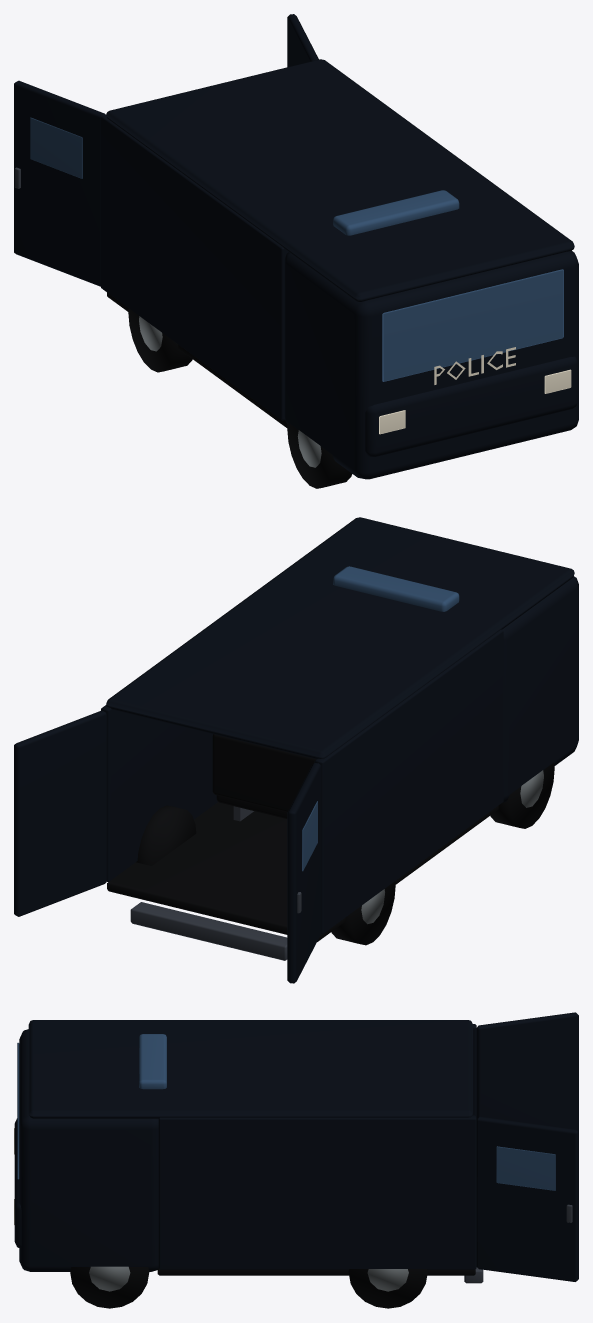
File: police-van-open-interior.glb
The picture shows the model from 3 angles, top to bottom: view 1: azimuth 30°, elevation 25°; view 2: azimuth 150°, elevation 25°; view 3: azimuth 270°, elevation 25°; orthographic projection. The views are drawn at different scales.
Parts seen in each view (by area): view 1: van-shell-and-interior, door-left, door-right; view 2: van-shell-and-interior, door-right, door-left; view 3: van-shell-and-interior, door-right, door-left.
Boxes of the visible parts, x1=… form: van-shell-and-interior: x1=101, y1=59, x2=578, y2=488; door-left: x1=14, y1=80, x2=105, y2=286; door-right: x1=287, y1=14, x2=318, y2=67; van-shell-and-interior: x1=101, y1=517, x2=578, y2=960; door-right: x1=14, y1=710, x2=106, y2=916; door-left: x1=287, y1=763, x2=321, y2=983; van-shell-and-interior: x1=14, y1=1020, x2=483, y2=1308; door-right: x1=476, y1=1116, x2=578, y2=1281; door-left: x1=476, y1=1012, x2=578, y2=1131.
Size of the model in its own units: 3.07 by 2.39 by 6.
Materials: 1 (1 with a texture image).
